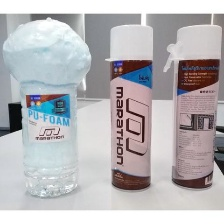aerosol_cans: (168, 21, 224, 192), (103, 21, 156, 194)
